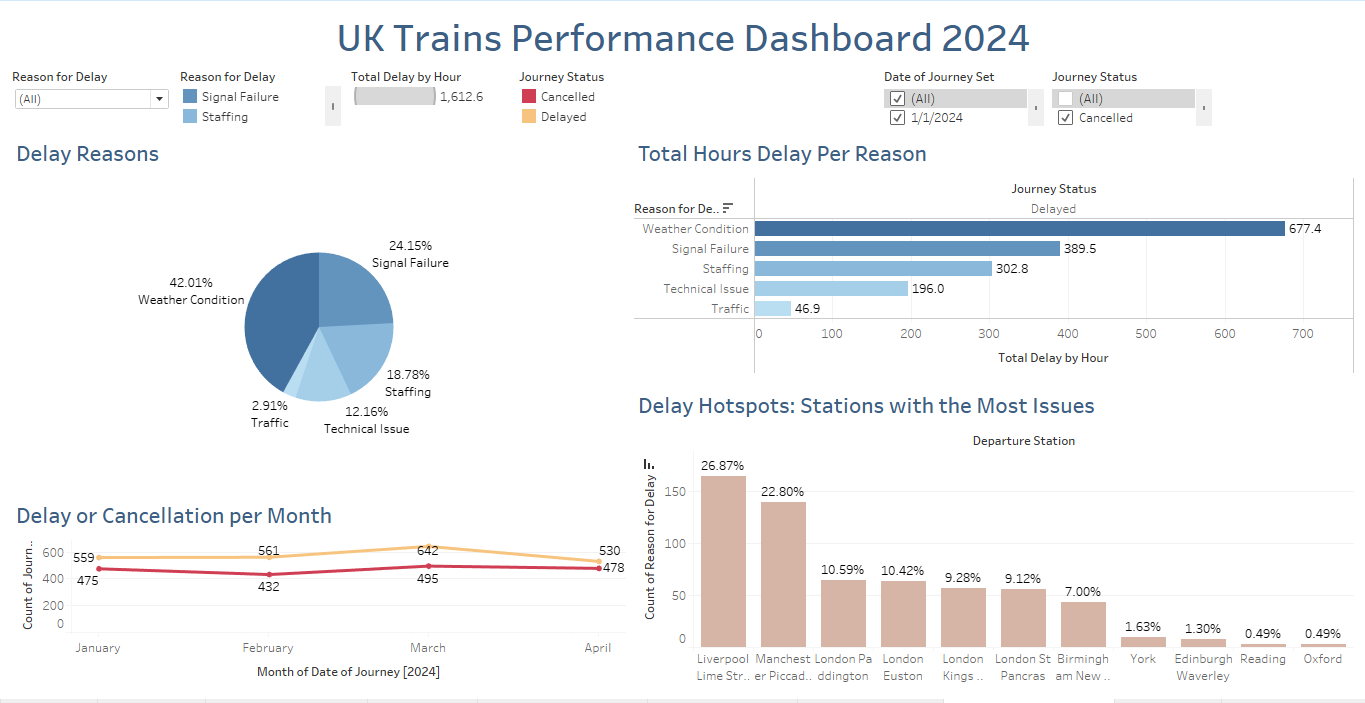

The dashboard page shown, as its layout file describes it:
{"tool":"tableau","page":{"name":"Performance","canvas":[1000,1000],"units":"permille","ordinal":0},"visuals":[{"type":"text","box":[4.9,10.1,990.2,115.7]},{"type":"legend","title":"Delay Reasons","param":"[federated.0scssd71dfpvt514vzn9u1tyo630].[sum:Calculation_2667819894290272259:qk","box":[4.9,125.8,127.7,98]},{"type":"legend","title":"Delay Per Month","param":"[federated.0scssd71dfpvt514vzn9u1tyo630].[none:Journey Status:nk]","box":[132.6,125.8,138.1,98]},{"type":"filter","title":"Departure Station vs Delay Reasons","param":"[federated.0scssd71dfpvt514vzn9u1tyo630].[none:Reason for Delay:nk]","box":[270.6,125.8,147.2,98]},{"type":"filter","title":"Total Hour Delay/ Reason","param":"[federated.0scssd71dfpvt514vzn9u1tyo630].[none:Departure Station:nk]","box":[558.2,125.8,218.4,98]},{"type":"filter","title":"Total Hour Delay/ Reason","param":"[federated.0scssd71dfpvt514vzn9u1tyo630].[none:Arrival Destination:nk]","box":[776.7,125.8,218.5,98]},{"type":"worksheet","title":"Delay Reasons","mark":"Pie","box":[4.9,223.8,412.9,496.9]},{"type":"worksheet","title":"Total Hour Delay/ Reason","mark":"Automatic","rows":["Reason for Delay"],"cols":["Journey Status","Calculation_2667819894290272259"],"box":[417.8,223.8,577.3,346.4]},{"type":"worksheet","title":"Departure Station vs Delay Reasons","mark":"Automatic","rows":["Reason for Delay"],"cols":["Departure Station"],"box":[417.8,570.2,577.3,419.7]},{"type":"worksheet","title":"Delay Per Month","mark":"Automatic","rows":["Price"],"cols":["Date of Journey"],"box":[4.9,720.6,412.9,269.3]}]}

Visuals, with their boxes on the dashboard's canvas, which has no fixed pixel size, in thousandths of its width and height (x1, y1, x2, y2). These are canvas units, not pixel positions in the 1365x703 screenshot, which may show the page scaled, cropped or inside an application window:
text: Rect(5, 10, 995, 126)
"Delay Reasons" legend: Rect(5, 126, 133, 224)
"Delay Per Month" legend: Rect(133, 126, 271, 224)
"Departure Station vs Delay Reasons" filter: Rect(271, 126, 418, 224)
"Total Hour Delay/ Reason" filter: Rect(558, 126, 777, 224)
"Total Hour Delay/ Reason" filter: Rect(777, 126, 995, 224)
"Delay Reasons" worksheet (Pie marks): Rect(5, 224, 418, 721)
"Total Hour Delay/ Reason" worksheet: Rect(418, 224, 995, 570)
"Departure Station vs Delay Reasons" worksheet: Rect(418, 570, 995, 990)
"Delay Per Month" worksheet: Rect(5, 721, 418, 990)
